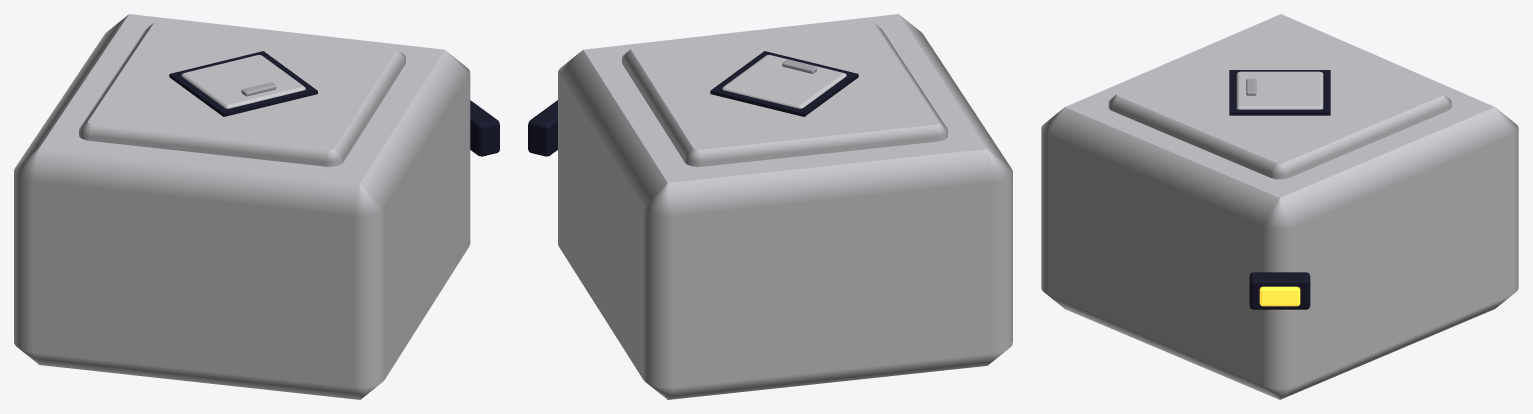
The model's file is roof.joint.convex90.s1.glb.
3 renders of one model, left to right at view 1: azimuth 30°, elevation 25°; view 2: azimuth 150°, elevation 25°; view 3: azimuth 270°, elevation 25°, orthographic. The views are drawn at different scales.
Visible parts, largest first — view 1: roof.joint.convex90.s1; view 2: roof.joint.convex90.s1; view 3: roof.joint.convex90.s1.
Boxes of the visible parts, <box> form: roof.joint.convex90.s1: <box>14,14,499,399</box>; roof.joint.convex90.s1: <box>528,14,1012,399</box>; roof.joint.convex90.s1: <box>1041,14,1518,399</box>.
Bounding box in the file's own units: 1.5 × 0.73 × 1.41.
